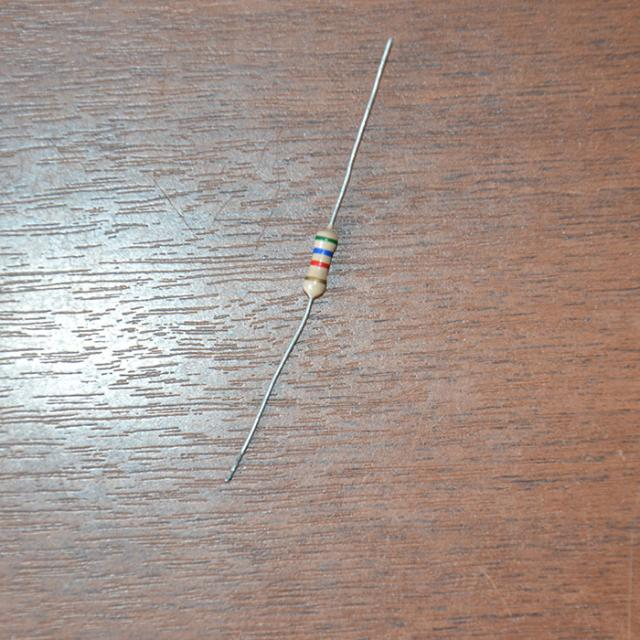blue: (314, 248, 332, 257)
gold: (304, 275, 325, 283)
green: (315, 235, 337, 244)
red: (311, 259, 328, 267)
resistor: (299, 225, 340, 301)
